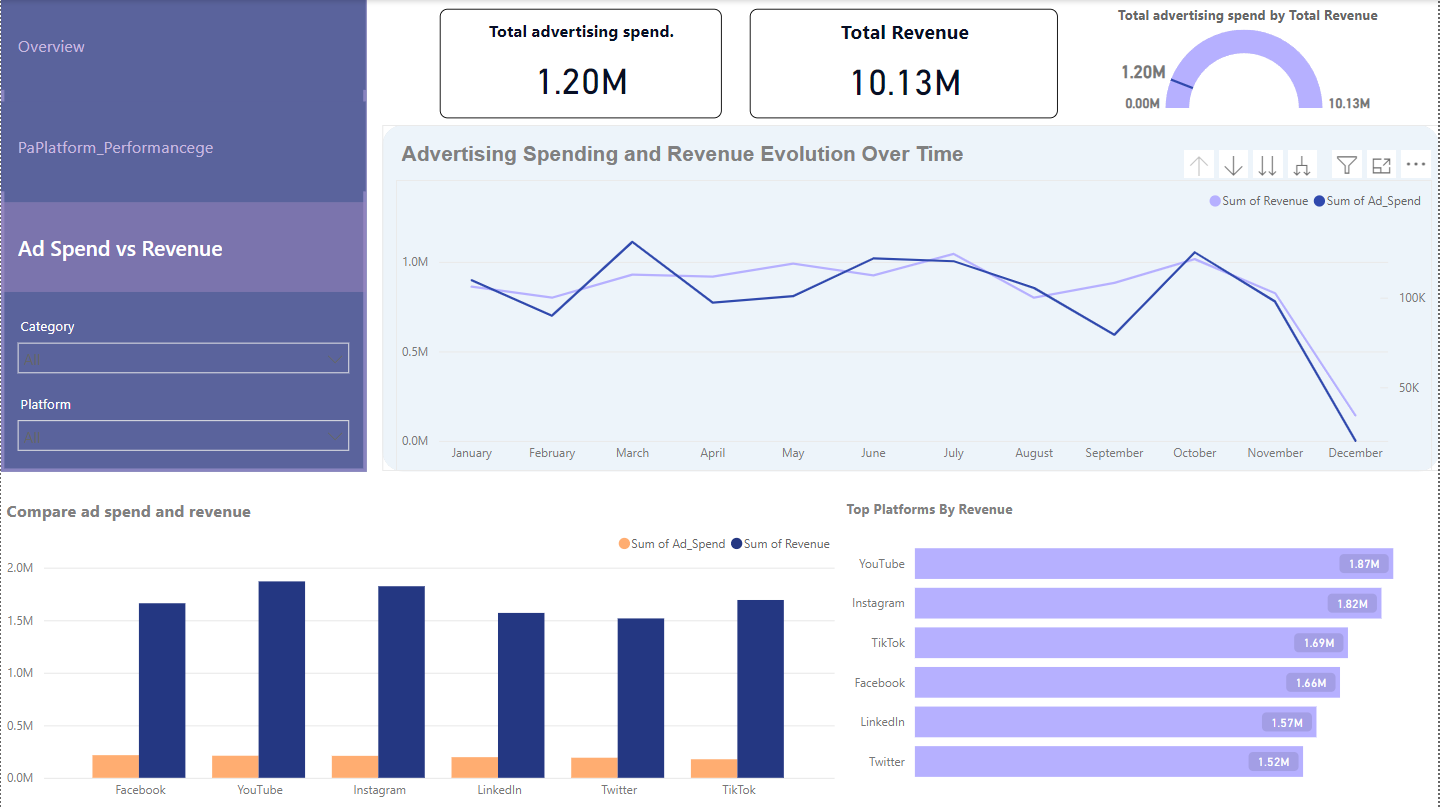

The dashboard page shown, as its layout file describes it:
{"tool":"powerbi","page":{"name":"Ad Spend vs Revenue","canvas":[1280,720],"ordinal":2},"visuals":[{"type":"gauge","fields":{"TargetValue":["Sum(Social_Media_Data_Task.Ad_Spend)"],"Y":["Sum(Social_Media_Data_Task.Revenue)"]},"box":[940.7,0,339.5,105.8],"z":0},{"type":"shape","title":"bg","box":[339.7,111.1,941.4,308.6],"z":0,"group":"g1"},{"type":"lineChart","fields":{"Category":["Social_Media_Data_Task.Post_Date.Variation.Date Hierarchy.Month","Social_Media_Data_Task.Post_Date.Variation.Date Hierarchy.Day"],"Y":["Sum(Social_Media_Data_Task.Revenue)"],"Y2":["Sum(Social_Media_Data_Task.Ad_Spend)"]},"box":[352.2,159.9,922.2,260],"z":1000,"group":"g1"},{"type":"clusteredColumnChart","fields":{"Category":["Social_Media_Data_Task.Platform"],"Y":["Sum(Social_Media_Data_Task.Ad_Spend)","Sum(Social_Media_Data_Task.Revenue)"]},"box":[0,439.2,747.5,280.8],"z":1000},{"type":"barChart","fields":{"Category":["Social_Media_Data_Task.Platform"],"Y":["Sum(Social_Media_Data_Task.Revenue)"]},"box":[747.5,439.2,532.5,271.7],"z":2000},{"type":"shape","box":[0,0,325.6,420.2],"z":3000,"group":"g3"},{"type":"group","id":"g1","title":"Group 1","box":[339.7,111.1,941.4,308.8],"z":3000},{"type":"pageNavigator","box":[0,0,325.6,260.2],"z":4000,"group":"g3"},{"type":"card","fields":{"Values":["Sum(Social_Media_Data_Task.Ad_Spend)"]},"box":[390.2,7.8,250.8,97.5],"z":4000},{"type":"card","fields":{"Values":["Sum(Social_Media_Data_Task.Revenue)"]},"box":[666.4,8.3,274.7,97.6],"z":4250,"group":"g2"},{"type":"group","id":"g2","title":"Group 2","box":[666.4,8.3,317.2,97.4],"z":5000},{"type":"textbox","box":[352.2,121.1,520,47.8],"z":6000},{"type":"group","id":"g3","title":"Group 3","box":[0,0,325.6,420.2],"z":7000},{"type":"slicer","fields":{"Values":["Social_Media_Data_Task.Category"]},"box":[4.2,276.9,315.8,83.5],"z":8000},{"type":"slicer","fields":{"Values":["Social_Media_Data_Task.Platform"]},"box":[4.2,346.7,315.8,72.5],"z":9000}]}

Visuals, with their boxes on the page's 1280x720 design canvas (x1, y1, x2, y2). These are canvas units, not pixel positions in the 1440x807 screenshot, which may show the page scaled, cropped or inside an application window:
gauge - Sum(Social_Media_Data_Task.Ad_Spend) x Sum(Social_Media_Data_Task.Revenue): bbox=[941, 0, 1280, 106]
"bg" shape: bbox=[340, 111, 1281, 420]
lineChart - Social_Media_Data_Task.Post_Date.Variation.Date Hierarchy.Month x Social_Media_Data_Task.Post_Date.Variation.Date Hierarchy.Day: bbox=[352, 160, 1274, 420]
clusteredColumnChart - Social_Media_Data_Task.Platform x Sum(Social_Media_Data_Task.Ad_Spend): bbox=[0, 439, 748, 720]
barChart - Social_Media_Data_Task.Platform x Sum(Social_Media_Data_Task.Revenue): bbox=[748, 439, 1280, 711]
shape: bbox=[0, 0, 326, 420]
"Group 1" group: bbox=[340, 111, 1281, 420]
pageNavigator: bbox=[0, 0, 326, 260]
card - Sum(Social_Media_Data_Task.Ad_Spend): bbox=[390, 8, 641, 105]
card - Sum(Social_Media_Data_Task.Revenue): bbox=[666, 8, 941, 106]
"Group 2" group: bbox=[666, 8, 984, 106]
textbox: bbox=[352, 121, 872, 169]
"Group 3" group: bbox=[0, 0, 326, 420]
slicer - Social_Media_Data_Task.Category: bbox=[4, 277, 320, 360]
slicer - Social_Media_Data_Task.Platform: bbox=[4, 347, 320, 419]
